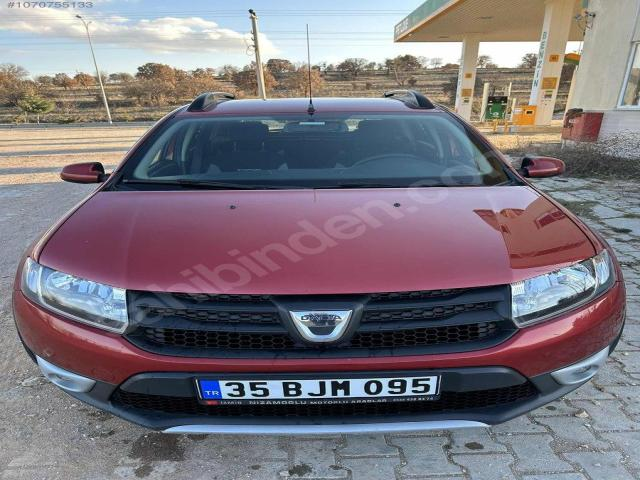plaka: (196, 375, 442, 404)
